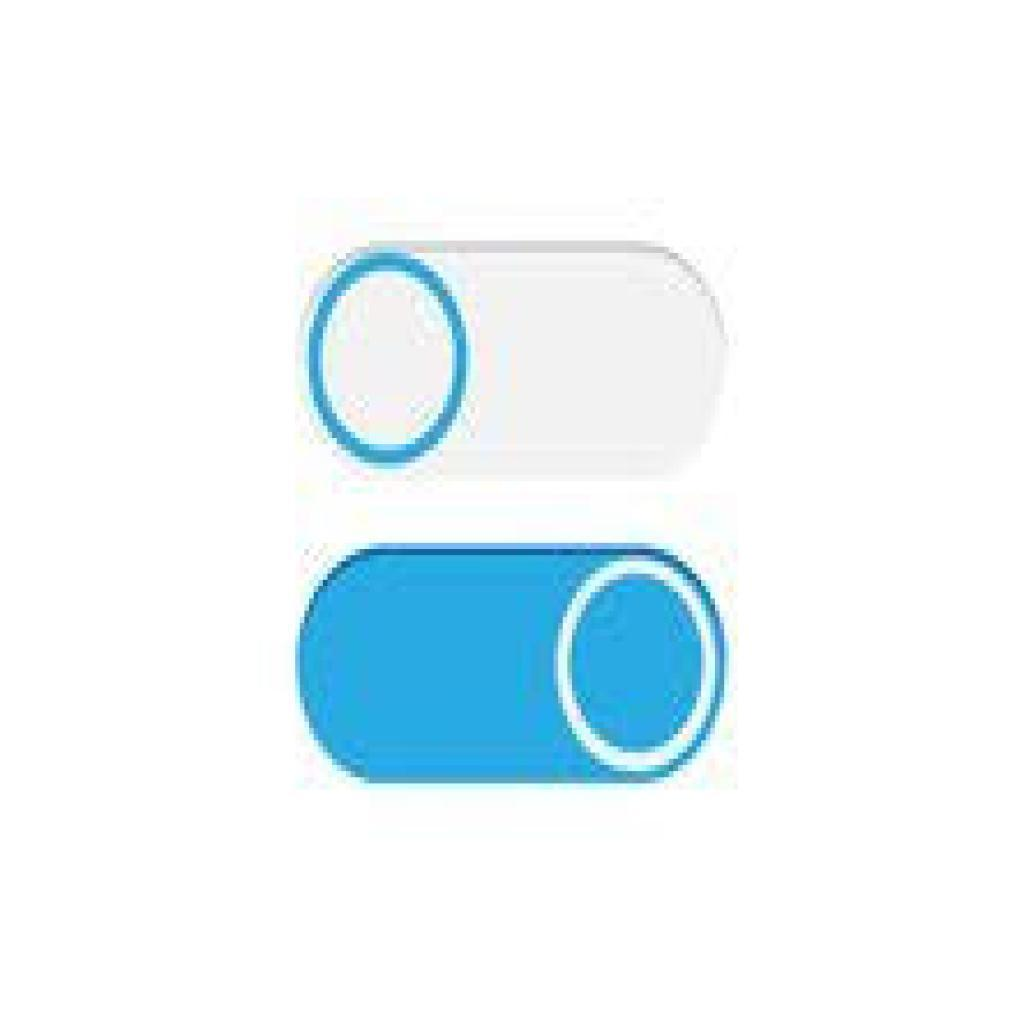switch: (289, 545, 733, 791), (304, 240, 730, 492)
